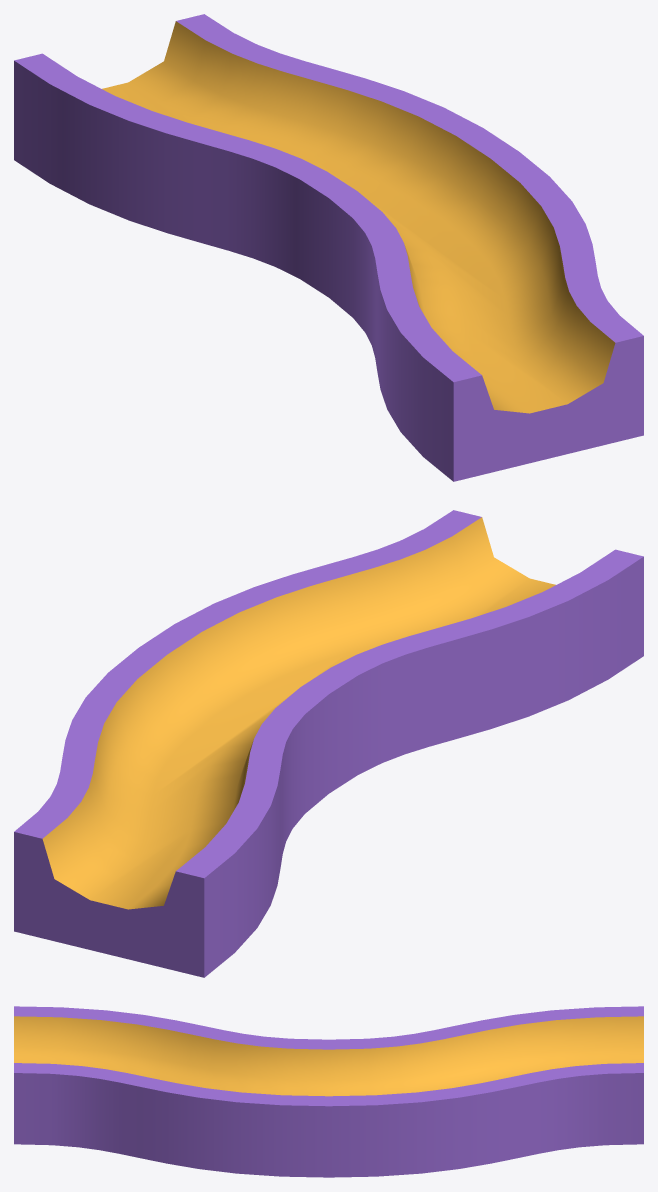
Rendered from wave-b.glb.
The picture shows the model from 3 angles, top to bottom: view 1: azimuth 30°, elevation 25°; view 2: azimuth 150°, elevation 25°; view 3: azimuth 270°, elevation 25°; orthographic projection. The views are drawn at different scales.
Parts seen in each view (by area): view 1: wave-b; view 2: wave-b; view 3: wave-b.
Boxes of the visible parts, left/top/right/bottom form: wave-b: left=14, top=14, right=643, bottom=481; wave-b: left=14, top=510, right=643, bottom=977; wave-b: left=14, top=1006, right=643, bottom=1177.
Bounding box in the file's own units: 1.5 × 0.5 × 4.
Materials: 1 (1 with a texture image).
